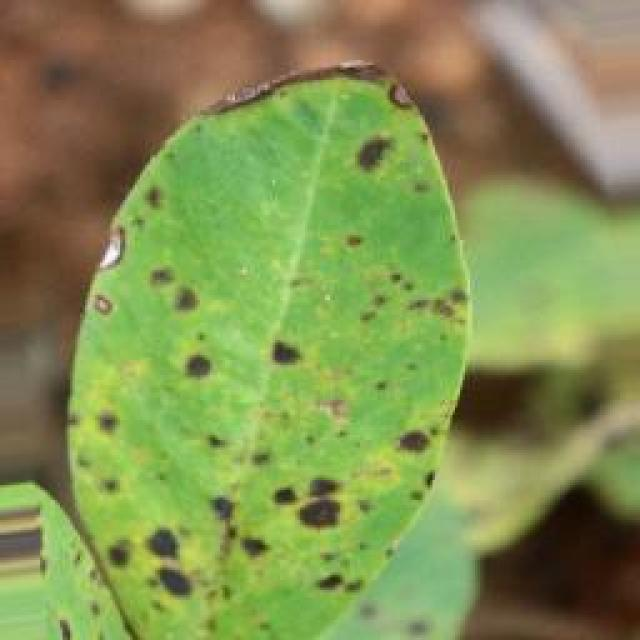Yellowish: (69, 52, 486, 640)
